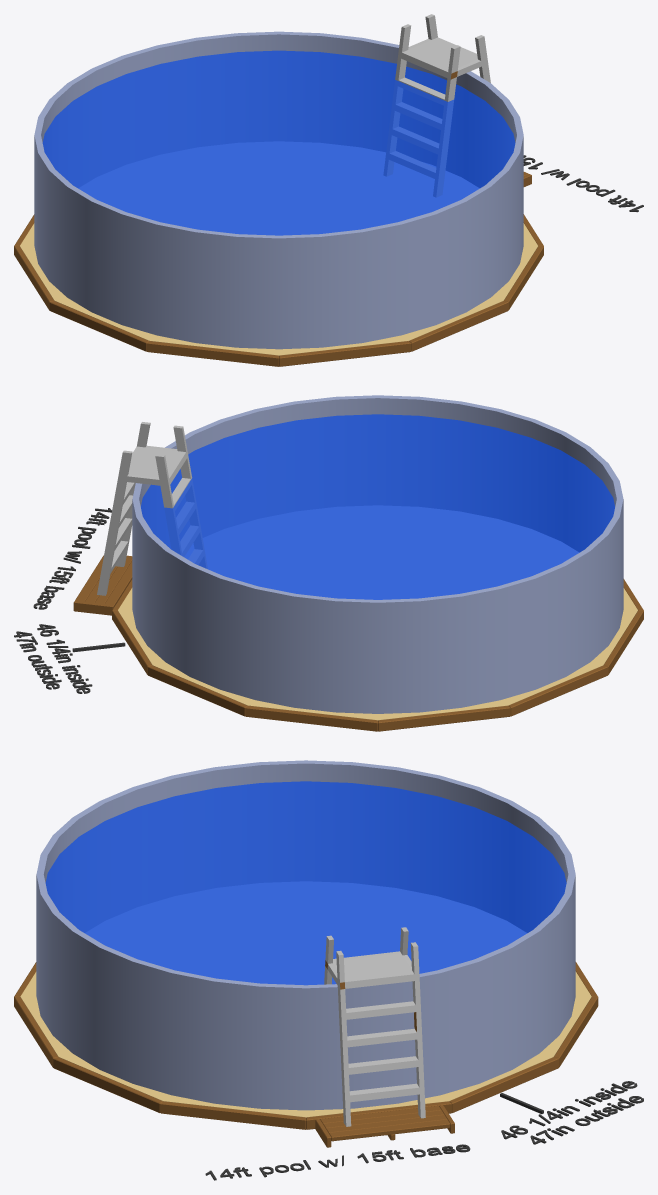
Rendered from pool.glb.
The picture shows the model from 3 angles, top to bottom: view 1: azimuth 30°, elevation 25°; view 2: azimuth 150°, elevation 25°; view 3: azimuth 270°, elevation 25°; orthographic projection. The views are drawn at different scales.
Parts seen in each view (by area): view 1: Cylinder001, Box002_ladder_0, Cylinder002, Object009_timber_0, Object010_timber_0, Object011_timber_0, Object008_timber_0, TextPlus003, Object007_timber_0, Object012_timber_0; view 2: Cylinder001, Box002_ladder_0, Cylinder002, TextPlus002, Box002_timber_0, Object005_timber_0, Object006_timber_0, TextPlus003, Object004_timber_0, Object007_timber_0, Object003_timber_0, Object008_timber_0; view 3: Cylinder001, Box002_ladder_0, Cylinder002, Box002_timber_0, TextPlus002, Object013_timber_0, Object012_timber_0, Object003_timber_0, TextPlus003, Object004_timber_0, Object011_timber_0, Object002_timber_0.
Part boxes in pixels (left/top/right/bottom): Cylinder001: left=34, top=31, right=523, bottom=349; Box002_ladder_0: left=383, top=14, right=490, bottom=197; Cylinder002: left=20, top=223, right=538, bottom=355; Object009_timber_0: left=146, top=341, right=278, bottom=366; Object010_timber_0: left=279, top=341, right=411, bottom=366; Object011_timber_0: left=409, top=301, right=508, bottom=351; Object008_timber_0: left=49, top=301, right=148, bottom=351; TextPlus003: left=523, top=155, right=643, bottom=212; Object007_timber_0: left=14, top=246, right=54, bottom=310; Object012_timber_0: left=504, top=246, right=543, bottom=310; Cylinder001: left=132, top=395, right=623, bottom=713; Box002_ladder_0: left=97, top=422, right=207, bottom=595; Cylinder002: left=118, top=588, right=637, bottom=720; TextPlus002: left=14, top=624, right=125, bottom=693; Box002_timber_0: left=73, top=555, right=132, bottom=615; Object005_timber_0: left=245, top=705, right=377, bottom=731; Object006_timber_0: left=378, top=705, right=510, bottom=731; TextPlus003: left=33, top=508, right=111, bottom=609; Object004_timber_0: left=148, top=665, right=247, bottom=716; Object007_timber_0: left=508, top=665, right=607, bottom=716; Object003_timber_0: left=112, top=610, right=152, bottom=674; Object008_timber_0: left=603, top=610, right=643, bottom=674; Cylinder001: left=36, top=760, right=575, bottom=1110; Box002_ladder_0: left=324, top=927, right=425, bottom=1126; Cylinder002: left=20, top=971, right=591, bottom=1117; Box002_timber_0: left=315, top=960, right=454, bottom=1147; TextPlus002: left=500, top=1081, right=643, bottom=1144; Object013_timber_0: left=160, top=1101, right=305, bottom=1129; Object012_timber_0: left=53, top=1057, right=162, bottom=1112; Object003_timber_0: left=449, top=1057, right=558, bottom=1112; TextPlus003: left=205, top=1144, right=470, bottom=1180; Object004_timber_0: left=554, top=996, right=598, bottom=1067; Object011_timber_0: left=14, top=996, right=58, bottom=1067; Object002_timber_0: left=306, top=1101, right=451, bottom=1129.
Size of the model in its own units: 3.21 by 0.8625 by 2.87.
